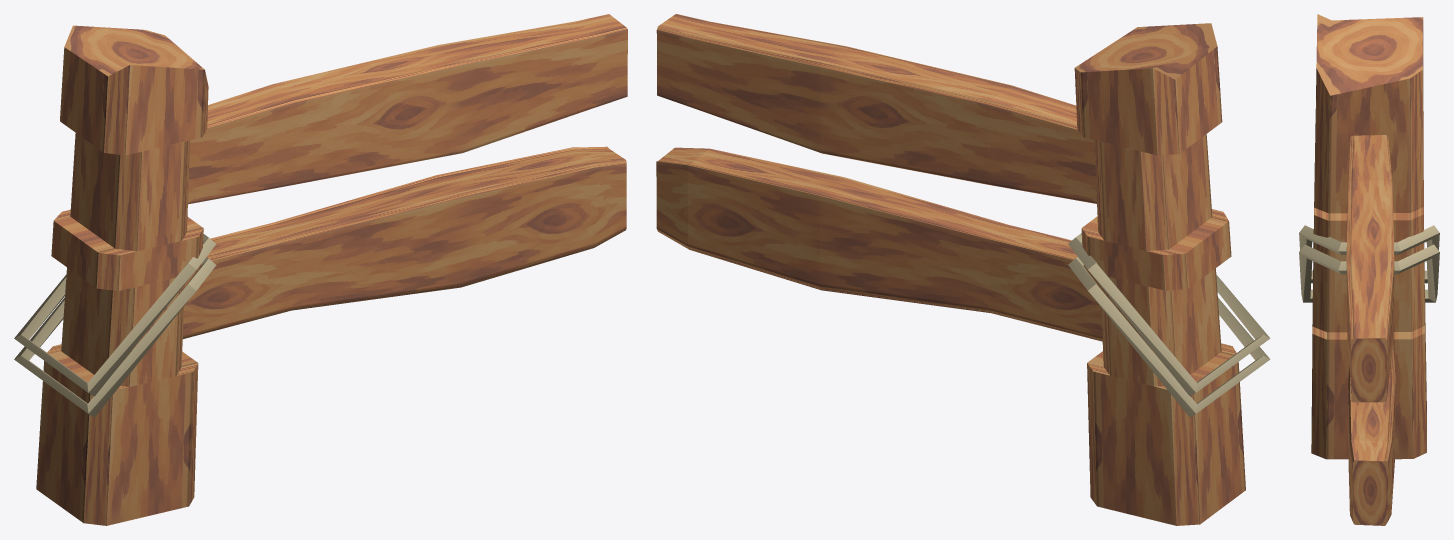
File: fence_w_150_c.glb
3 renders of one model, left to right at view 1: azimuth 30°, elevation 25°; view 2: azimuth 150°, elevation 25°; view 3: azimuth 270°, elevation 25°, orthographic. The views are drawn at different scales.
Parts seen in each view (by area): view 1: fence_w_150_c; view 2: fence_w_150_c; view 3: fence_w_150_c.
Part boxes in pixels (bbox=[...]): fence_w_150_c: bbox=[14, 14, 627, 525]; fence_w_150_c: bbox=[656, 14, 1270, 525]; fence_w_150_c: bbox=[1299, 14, 1439, 525].
Bounding box in the file's own units: 1.7 × 1.29 × 0.3989.
Materials: 1 (1 with a texture image).
